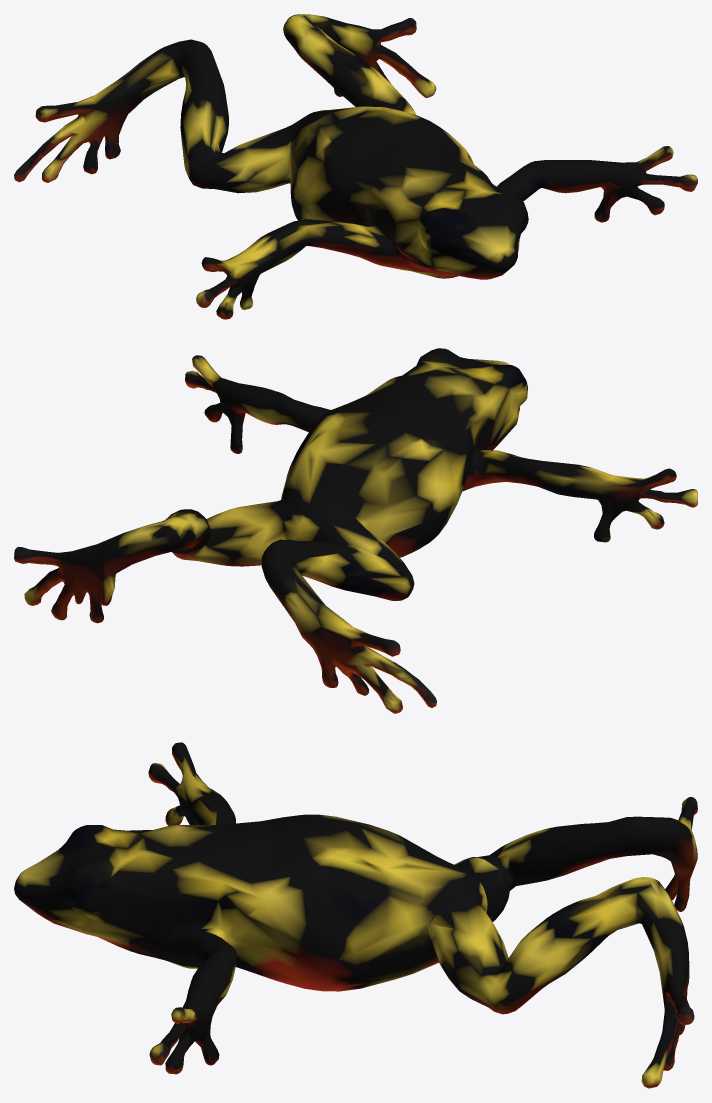
Rendered from bumblebee.swim.lo.glb.
3 renders of one model, top to bottom at view 1: azimuth 30°, elevation 25°; view 2: azimuth 150°, elevation 25°; view 3: azimuth 270°, elevation 25°, orthographic. The views are drawn at different scales.
Visible parts, largest first — view 1: bumblebee.swim; view 2: bumblebee.swim; view 3: bumblebee.swim.
Boxes of the visible parts, x1,y1,x2,y2 form: bumblebee.swim: (14,14,697,319); bumblebee.swim: (14,348,697,713); bumblebee.swim: (14,742,697,1088).
Size of the model in its own units: 0.0408 by 0.0102 by 0.0411.
